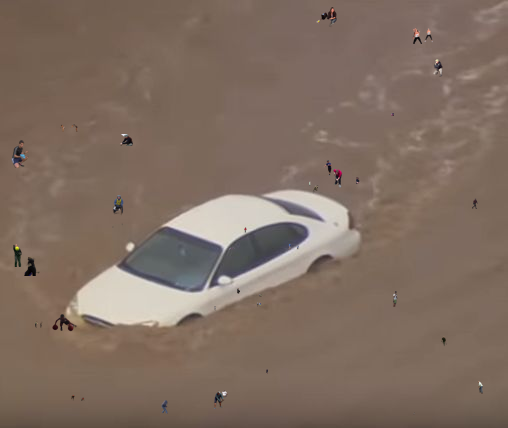Human: (333, 169, 361, 188), (11, 140, 30, 168), (200, 390, 228, 409), (316, 7, 337, 29), (52, 314, 77, 332), (411, 26, 433, 44), (112, 195, 124, 228), (23, 257, 40, 276), (13, 244, 22, 267), (433, 59, 443, 77), (120, 134, 133, 146), (60, 124, 78, 132), (323, 160, 332, 176), (161, 400, 170, 414), (288, 243, 305, 250), (441, 336, 447, 350), (71, 395, 85, 401), (393, 291, 398, 307), (477, 381, 483, 394), (472, 198, 478, 209), (312, 185, 319, 194), (35, 321, 43, 328), (257, 302, 261, 307), (244, 227, 247, 233), (237, 288, 240, 294), (229, 247, 235, 250), (259, 294, 263, 297), (214, 306, 216, 311), (309, 181, 311, 186), (266, 369, 268, 374), (413, 412, 415, 417), (391, 113, 394, 116)
